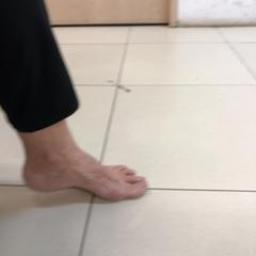Medial View -Left Foot-: (8, 126, 166, 216)
